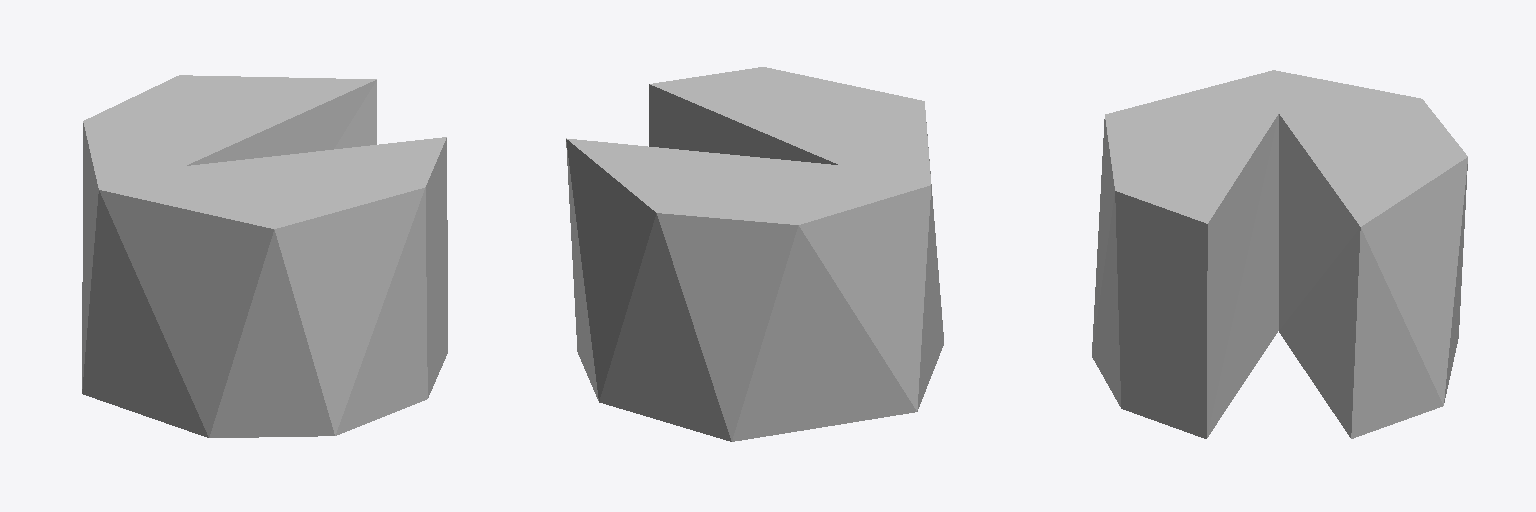
The model's file is pacman.obj.
3 renders of one model, left to right at view 1: azimuth 30°, elevation 25°; view 2: azimuth 150°, elevation 25°; view 3: azimuth 270°, elevation 25°, orthographic.
Parts seen in each view (by area): view 1: Cylinder_Cylinder.001; view 2: Cylinder_Cylinder.001; view 3: Cylinder_Cylinder.001.
Boxes of the visible parts, box(x1,y1,x2,y2) form: Cylinder_Cylinder.001: box(82, 75, 447, 437); Cylinder_Cylinder.001: box(566, 67, 943, 441); Cylinder_Cylinder.001: box(1092, 70, 1467, 438).
Bounding box in the file's own units: 2.02 × 1.28 × 2.04.